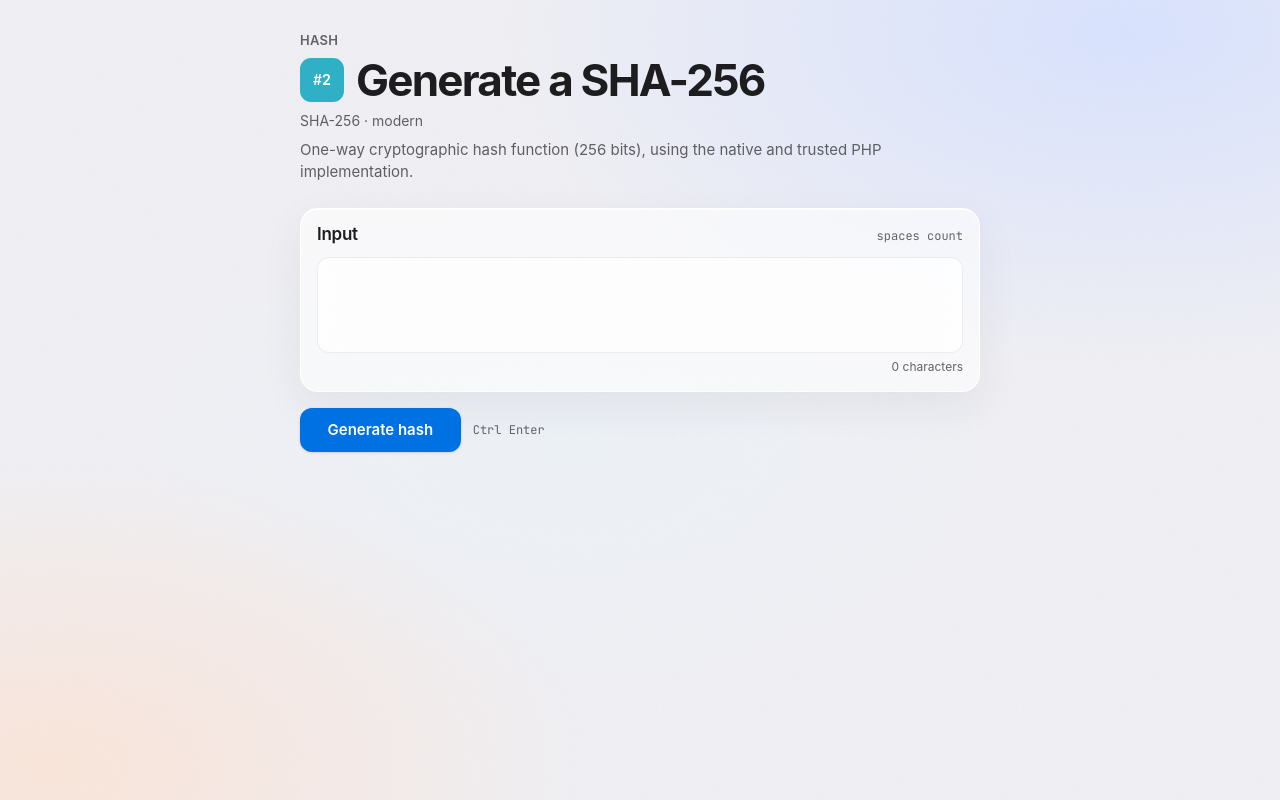
Test case: Workbench › a 404 from the API shows the not-found screen
Expected: the heading "Generate a SHA-256" is shown, [356,57,765,103]
Click the button "Generate hash": (380, 430) [300,408,461,452]
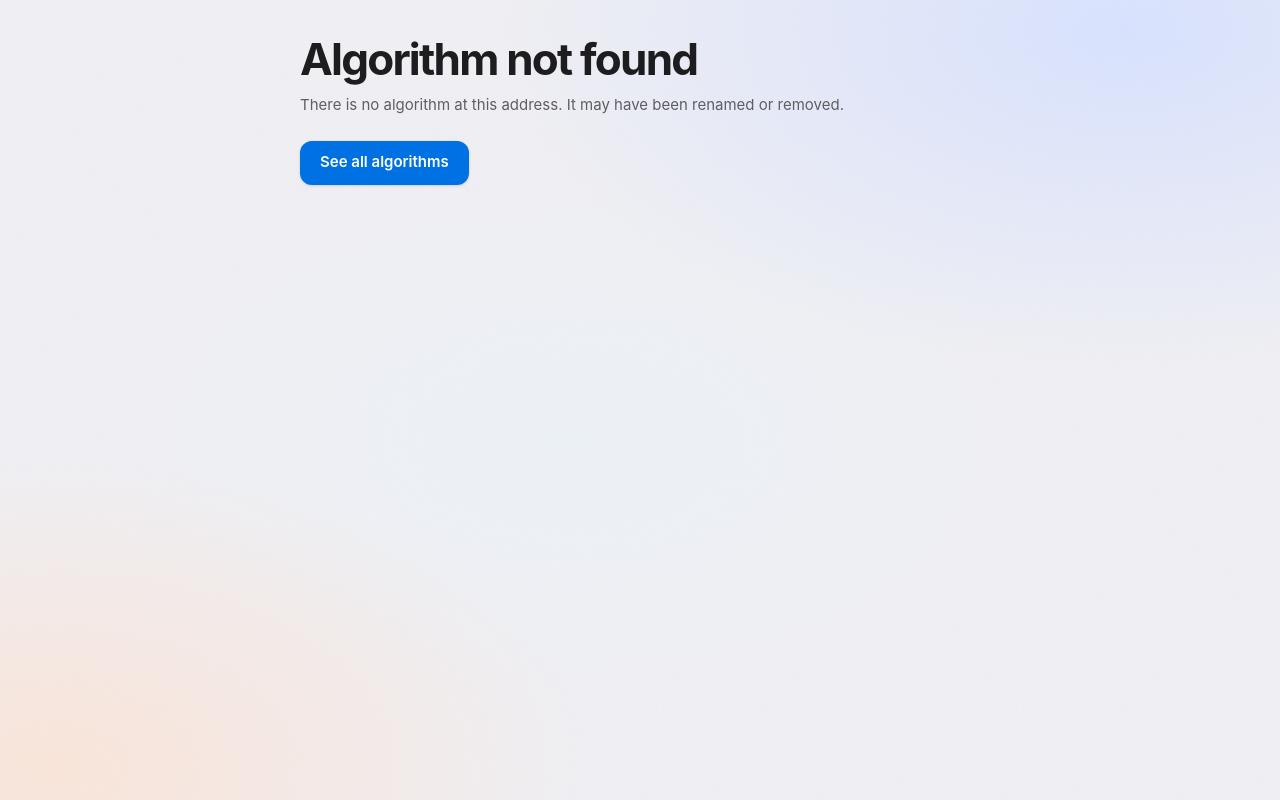
Now the heading "Algorithm not found" is shown, box [300,32,697,86]
